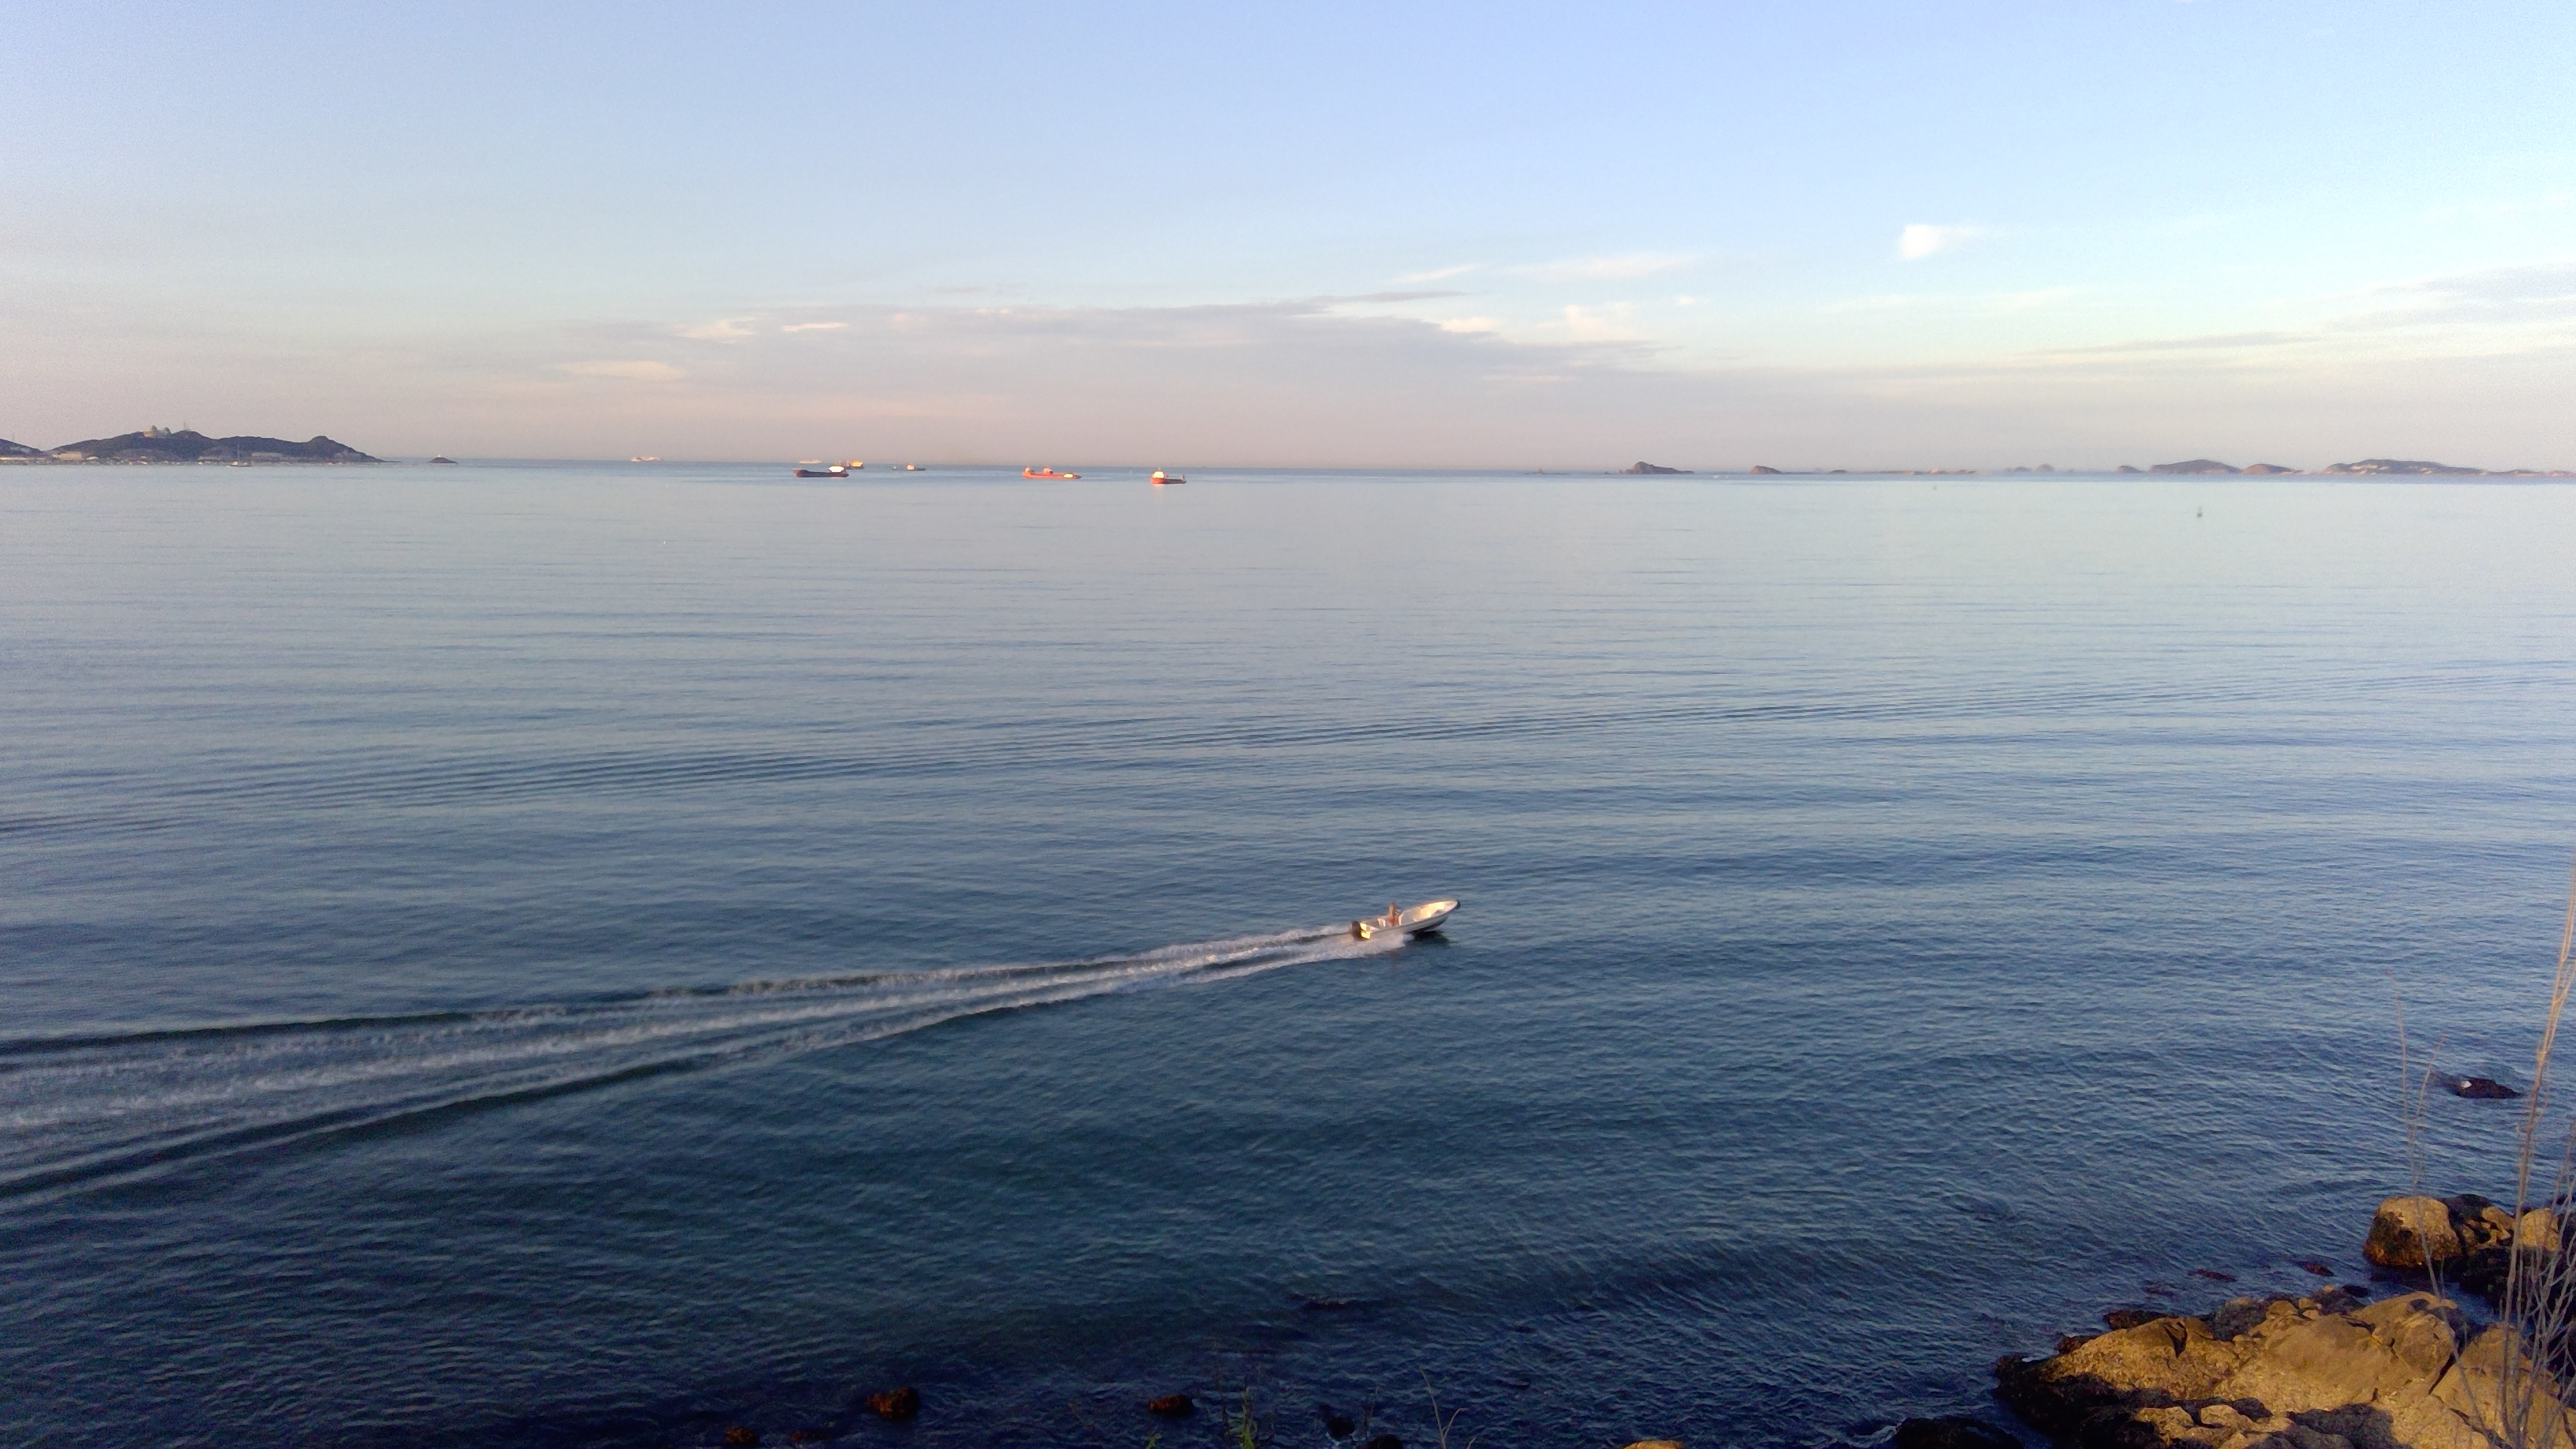boat: (1336, 872, 1472, 966)
rock: (1948, 1148, 2576, 1437), (2, 418, 368, 467), (2120, 432, 2312, 494), (2332, 444, 2569, 488), (1617, 446, 1695, 490)
ship: (786, 444, 874, 490), (1017, 448, 1093, 492), (1146, 462, 1180, 485)
